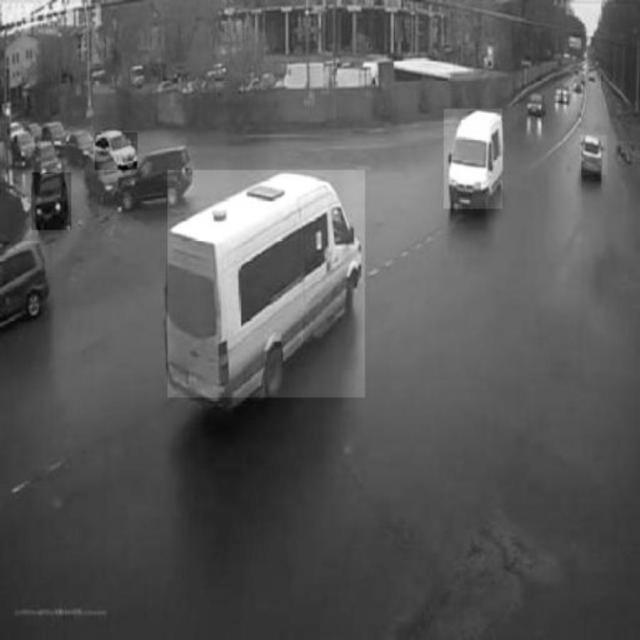accident: (81, 152, 195, 208)
vehicle: (168, 170, 365, 397), (444, 110, 502, 210), (1, 243, 53, 323), (32, 173, 72, 230), (95, 133, 137, 170), (581, 135, 608, 176)
